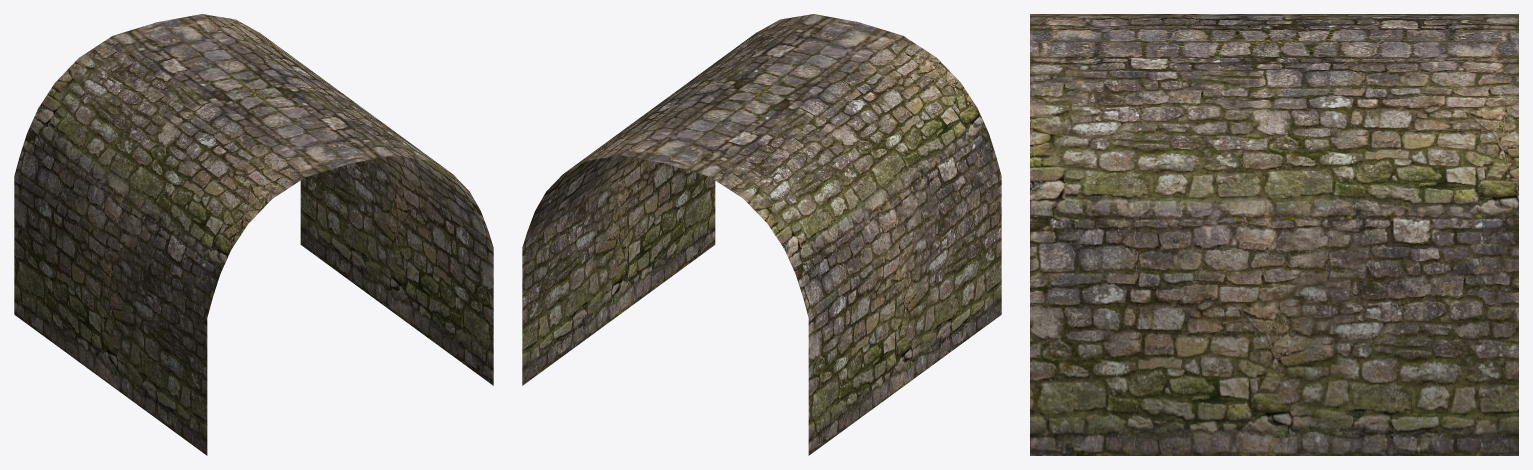
Rendered from Tunnel_Straight.FBX.
3 renders of one model, left to right at view 1: azimuth 30°, elevation 25°; view 2: azimuth 150°, elevation 25°; view 3: azimuth 270°, elevation 25°, orthographic. The views are drawn at different scales.
Visible parts, largest first — view 1: Tunnel_Straight; view 2: Tunnel_Straight; view 3: Tunnel_Straight.
Boxes of the visible parts, x1,y1,x2,y2 form: Tunnel_Straight: [14, 14, 493, 455]; Tunnel_Straight: [522, 14, 1001, 455]; Tunnel_Straight: [1030, 14, 1518, 455].
Bounding box in the file's own units: 342 × 294 × 400.
